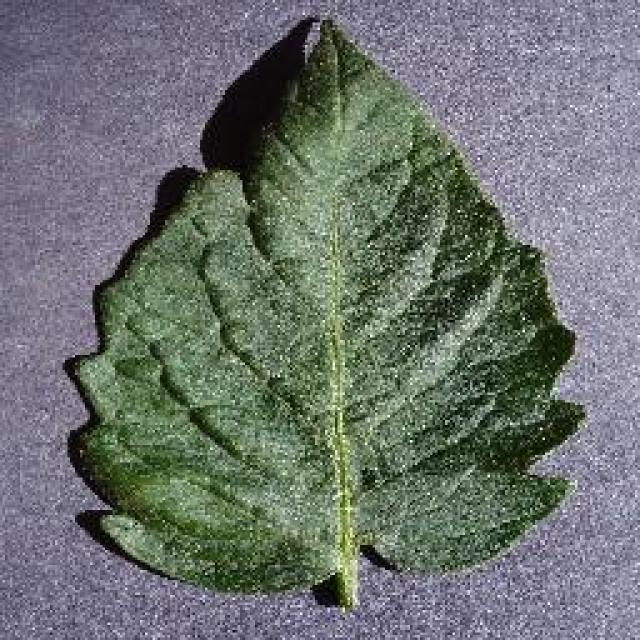healthy: (62, 18, 594, 610)
